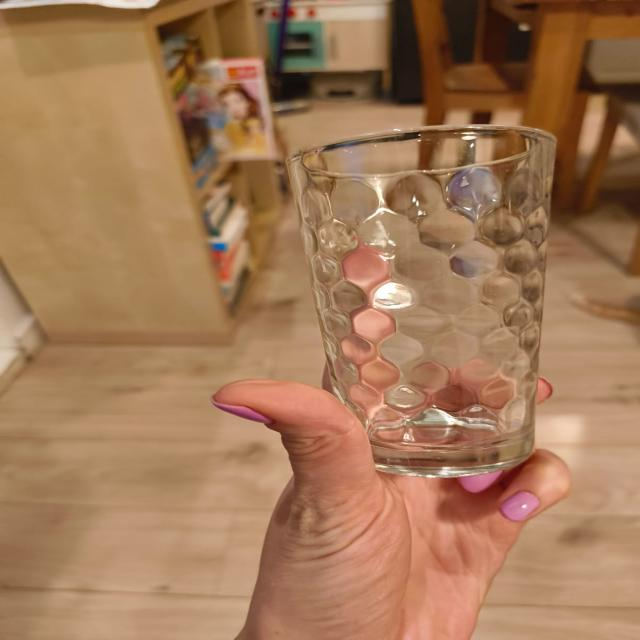ok g2: (284, 123, 560, 480)
